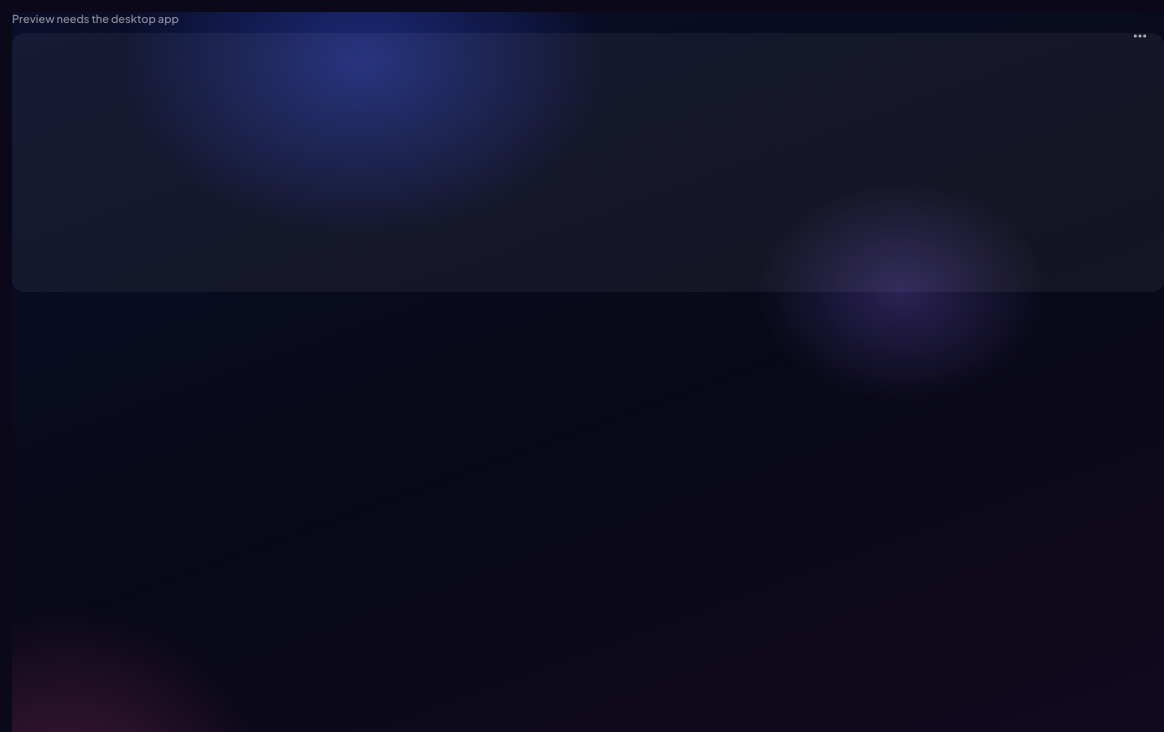
Scenario: WebViewWidget › falls back to the default home with nothing stored
This screenshot has width=1164, height=732.
Right-click the element with test id "day-webview": (588, 152) [12,12,1163,292]
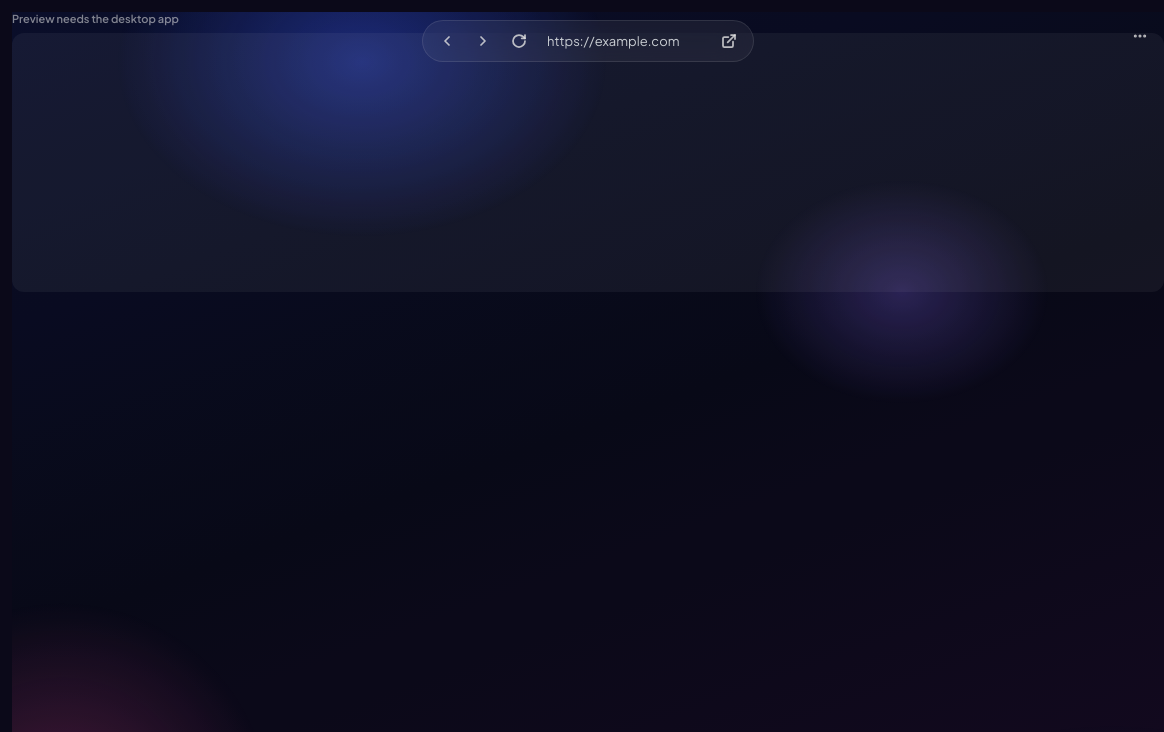
Result: the field named "Web address" holds "https://example.com" at [539,29,709,53]
